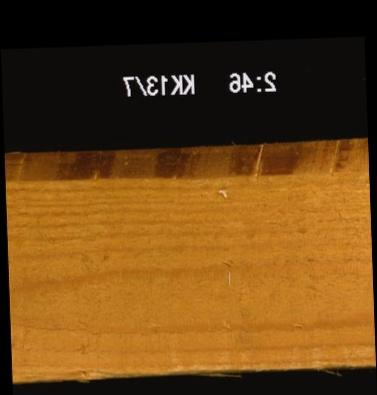wave: (4, 145, 367, 177)
